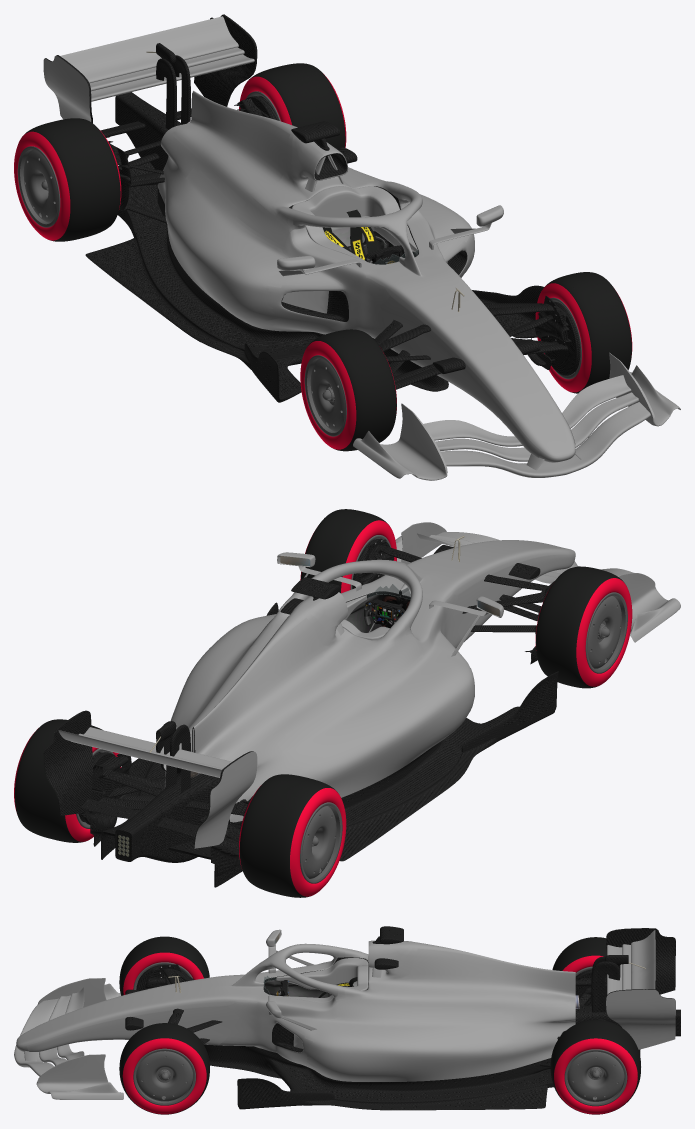
The picture shows the model from 3 angles, top to bottom: view 1: azimuth 30°, elevation 25°; view 2: azimuth 150°, elevation 25°; view 3: azimuth 270°, elevation 25°; orthographic projection. The views are drawn at different scales.
Parts seen in each view (by area): view 1: decals_layer1_86, Cube_SUB1_28, Cube_SUB0_27, TYRE_RR_SUB1_93, Plane_018_001_66, Plane_007_001_23, Plane_010_001_217, Plane_108, TYRE_RF_SUB1_42, TYRE_LF_SUB1_57, Plane_002_001_84, TYRE_LR_SUB1_114 (+13 smaller); view 2: decals_layer1_86, Cube_SUB1_28, Plane_018_001_66, Cube_SUB0_27, TYRE_RR_SUB1_93, TYRE_RF_SUB1_42, TYRE_LR_SUB1_114, rearendplates-1_69, Plane_010_001_217, TYRE_LF_SUB1_57, rearendplates_68, wheel_br_95 (+15 smaller); view 3: decals_layer1_86, Cube_SUB1_28, Cube_SUB0_27, Plane_010_001_217, rearendplates_68, wheel_fl_59, wheel_bl_116, Plane_018_001_66, TYRE_LF_SUB0_56, TYRE_LR_SUB0_113, TYRE_LR_SUB1_114, rearendplates-1_69 (+15 smaller).
Part boxes in pixels (bbox=[...]): decals_layer1_86: bbox=[159, 93, 575, 457]; Cube_SUB1_28: bbox=[85, 153, 543, 402]; Cube_SUB0_27: bbox=[158, 90, 575, 462]; TYRE_RR_SUB1_93: bbox=[22, 118, 120, 241]; Plane_018_001_66: bbox=[100, 43, 540, 373]; Plane_007_001_23: bbox=[60, 16, 244, 91]; Plane_010_001_217: bbox=[353, 352, 680, 480]; Plane_108: bbox=[423, 375, 638, 461]; TYRE_RF_SUB1_42: bbox=[308, 329, 396, 451]; TYRE_LF_SUB1_57: bbox=[542, 272, 631, 393]; Plane_002_001_84: bbox=[440, 402, 650, 477]; TYRE_LR_SUB1_114: bbox=[249, 63, 345, 148]; decals_layer1_86: bbox=[162, 540, 575, 822]; Cube_SUB1_28: bbox=[101, 590, 558, 887]; Plane_018_001_66: bbox=[81, 545, 540, 862]; Cube_SUB0_27: bbox=[163, 553, 575, 823]; TYRE_RR_SUB1_93: bbox=[239, 774, 337, 897]; TYRE_RF_SUB1_42: bbox=[535, 566, 624, 688]; TYRE_LR_SUB1_114: bbox=[14, 719, 102, 842]; rearendplates-1_69: bbox=[43, 710, 253, 848]; Plane_010_001_217: bbox=[395, 522, 680, 642]; TYRE_LF_SUB1_57: bbox=[301, 509, 389, 593]; rearendplates_68: bbox=[194, 751, 257, 848]; wheel_br_95: bbox=[300, 802, 342, 883]; decals_layer1_86: bbox=[16, 940, 575, 1081]; Cube_SUB1_28: bbox=[204, 957, 553, 1110]; Cube_SUB0_27: bbox=[16, 941, 575, 1074]; Plane_010_001_217: bbox=[36, 978, 123, 1099]; rearendplates_68: bbox=[606, 989, 675, 1049]; wheel_fl_59: bbox=[133, 1048, 195, 1105]; wheel_bl_116: bbox=[564, 1049, 627, 1106]; Plane_018_001_66: bbox=[125, 926, 680, 1049]; TYRE_LF_SUB0_56: bbox=[122, 1038, 206, 1114]; TYRE_LR_SUB0_113: bbox=[554, 1038, 637, 1114]; TYRE_LR_SUB1_114: bbox=[550, 1019, 640, 1114]; rearendplates-1_69: bbox=[606, 928, 675, 1007].
Bounding box in the file's own units: 1.97 × 1.17 × 5.27.
33 materials, 28 textured.
